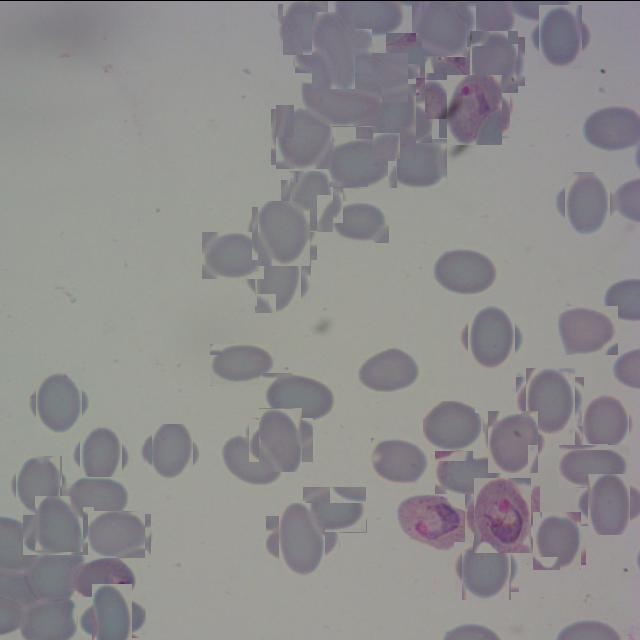leukocyte: (330, 52, 408, 101), (273, 106, 334, 166), (303, 20, 364, 80), (263, 372, 336, 422), (28, 500, 88, 560), (272, 508, 332, 568), (364, 90, 424, 150), (302, 81, 382, 126), (520, 371, 580, 430), (255, 203, 314, 262), (221, 433, 285, 486), (458, 537, 516, 595), (328, 138, 396, 187), (431, 247, 499, 294), (435, 450, 504, 496), (466, 32, 522, 88), (250, 252, 306, 308), (464, 310, 520, 366), (32, 374, 88, 430), (485, 412, 541, 468), (559, 444, 630, 488), (88, 510, 152, 558), (386, 138, 447, 188), (423, 400, 484, 450), (556, 305, 618, 354), (560, 175, 614, 230), (28, 551, 84, 604), (357, 346, 420, 393), (303, 486, 367, 532), (534, 9, 588, 63), (578, 396, 632, 450), (12, 458, 66, 512), (254, 412, 308, 466), (420, 60, 474, 114), (202, 231, 264, 278), (386, 32, 447, 78), (417, 0, 472, 51), (210, 342, 276, 384), (371, 437, 431, 483), (530, 514, 583, 566), (286, 174, 338, 227), (85, 590, 140, 640), (75, 429, 127, 481), (584, 478, 636, 530), (280, 1, 331, 52), (65, 476, 128, 516), (331, 200, 389, 242), (148, 426, 196, 474)
schizont: (469, 481, 536, 547), (396, 493, 473, 550), (443, 78, 506, 141)
